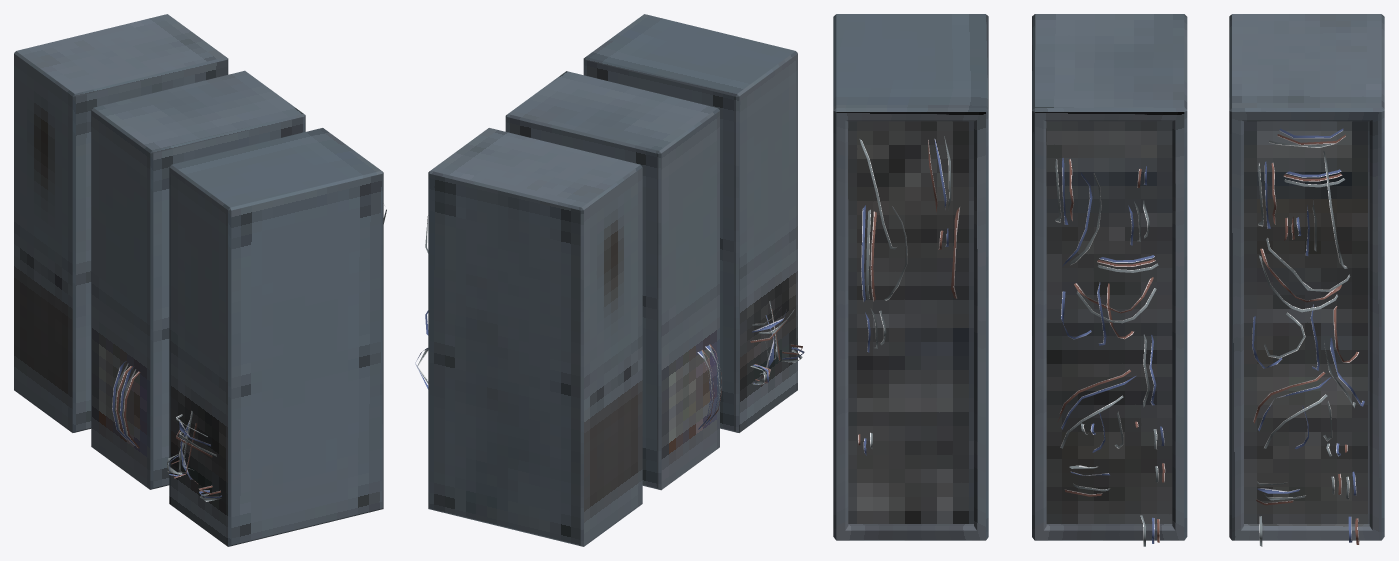
The model's file is CSN1-lite.glb.
3 renders of one model, left to right at view 1: azimuth 30°, elevation 25°; view 2: azimuth 150°, elevation 25°; view 3: azimuth 270°, elevation 25°, orthographic. The views are drawn at different scales.
Visible parts, largest first — view 1: Cube.001, object 2; view 2: Cube.001, object 2; view 3: Cube.001, object 2.
Part boxes in pixels (left/top/right/bottom): Cube.001: left=14, top=14, right=383, bottom=546; object 2: left=112, top=205, right=386, bottom=501; Cube.001: left=428, top=14, right=797, bottom=546; object 2: left=415, top=216, right=804, bottom=429; Cube.001: left=833, top=14, right=1384, bottom=540; object 2: left=858, top=128, right=1364, bottom=546.
Bounding box in the file's own units: 1.12 × 1.83 × 2.1.
1 material, 1 textured.
